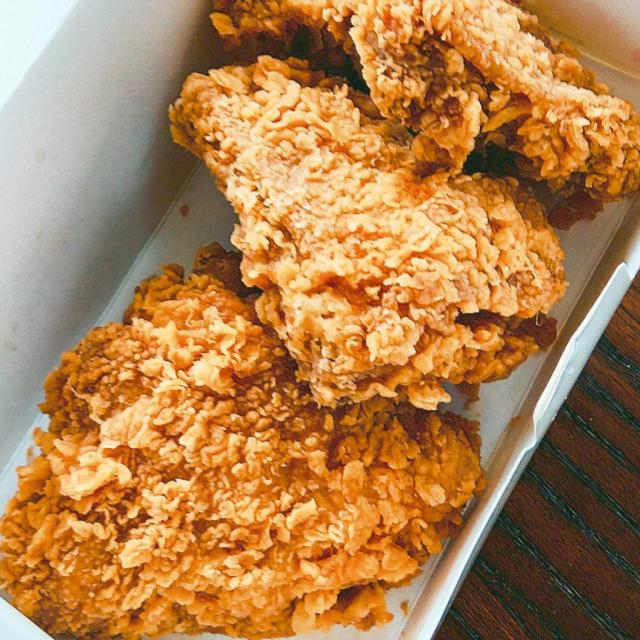fried_chicken: (7, 259, 484, 632), (169, 54, 569, 410), (210, 0, 638, 214)
